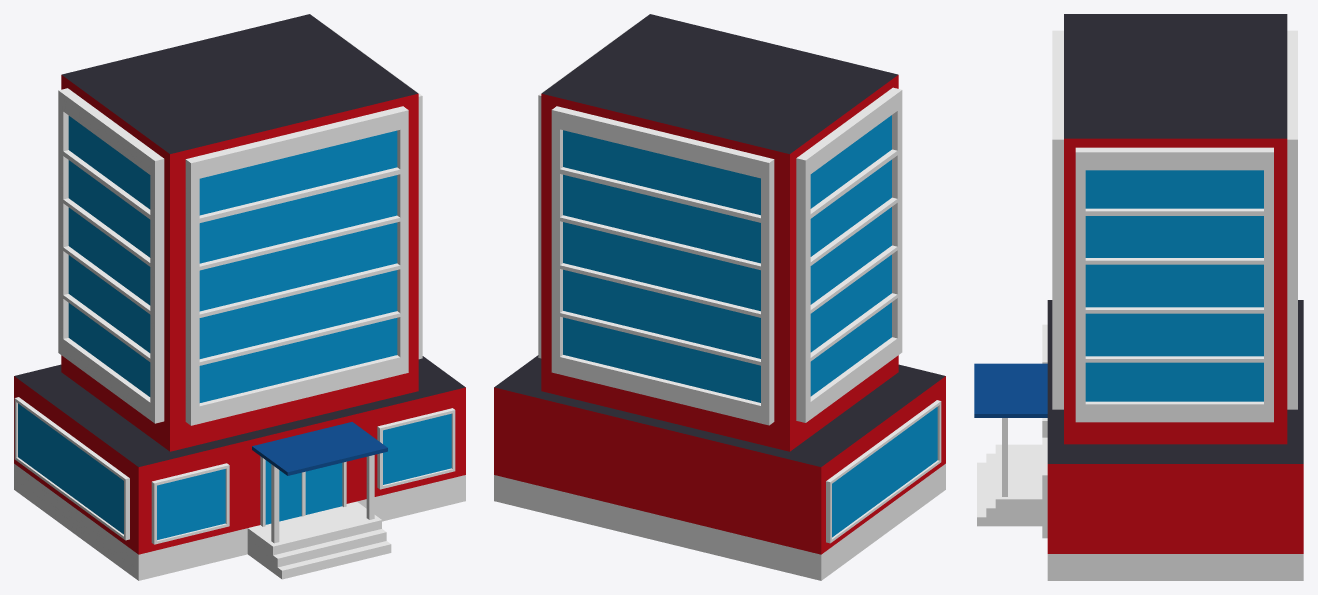
File: Building_02.fbx
3 renders of one model, left to right at view 1: azimuth 30°, elevation 25°; view 2: azimuth 150°, elevation 25°; view 3: azimuth 270°, elevation 25°, orthographic. The views are drawn at different scales.
Parts seen in each view (by area): view 1: B2; view 2: B2; view 3: B2.
Boxes of the visible parts, x1,y1,x2,y2 form: B2: (14, 14, 465, 580); B2: (494, 14, 945, 580); B2: (974, 14, 1303, 580).
Bounding box in the file's own units: 19.82 × 23.5 × 16.6.
Materials: 1 (1 with a texture image).
